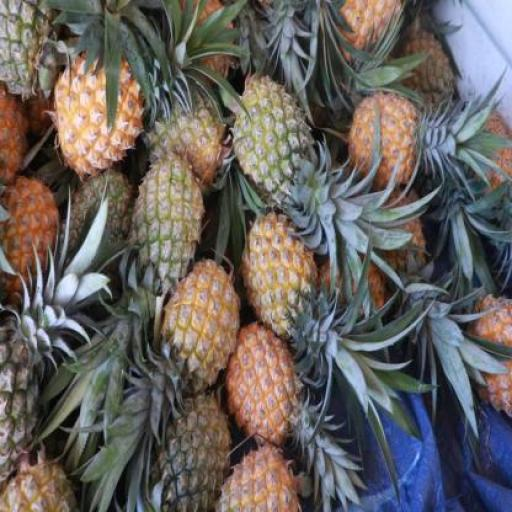------------------------------: (162, 256, 236, 388), (231, 77, 307, 205), (130, 157, 200, 291), (225, 321, 297, 448), (0, 315, 39, 507), (143, 98, 221, 185), (218, 443, 303, 512)
Pineapple - v8 v1: (53, 55, 139, 180), (240, 214, 314, 331), (346, 96, 418, 198)
